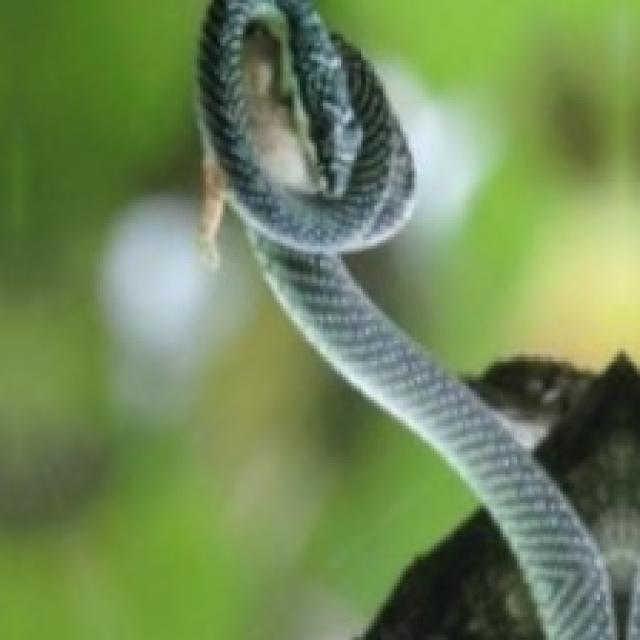paradise tree snake: (197, 0, 614, 637)
